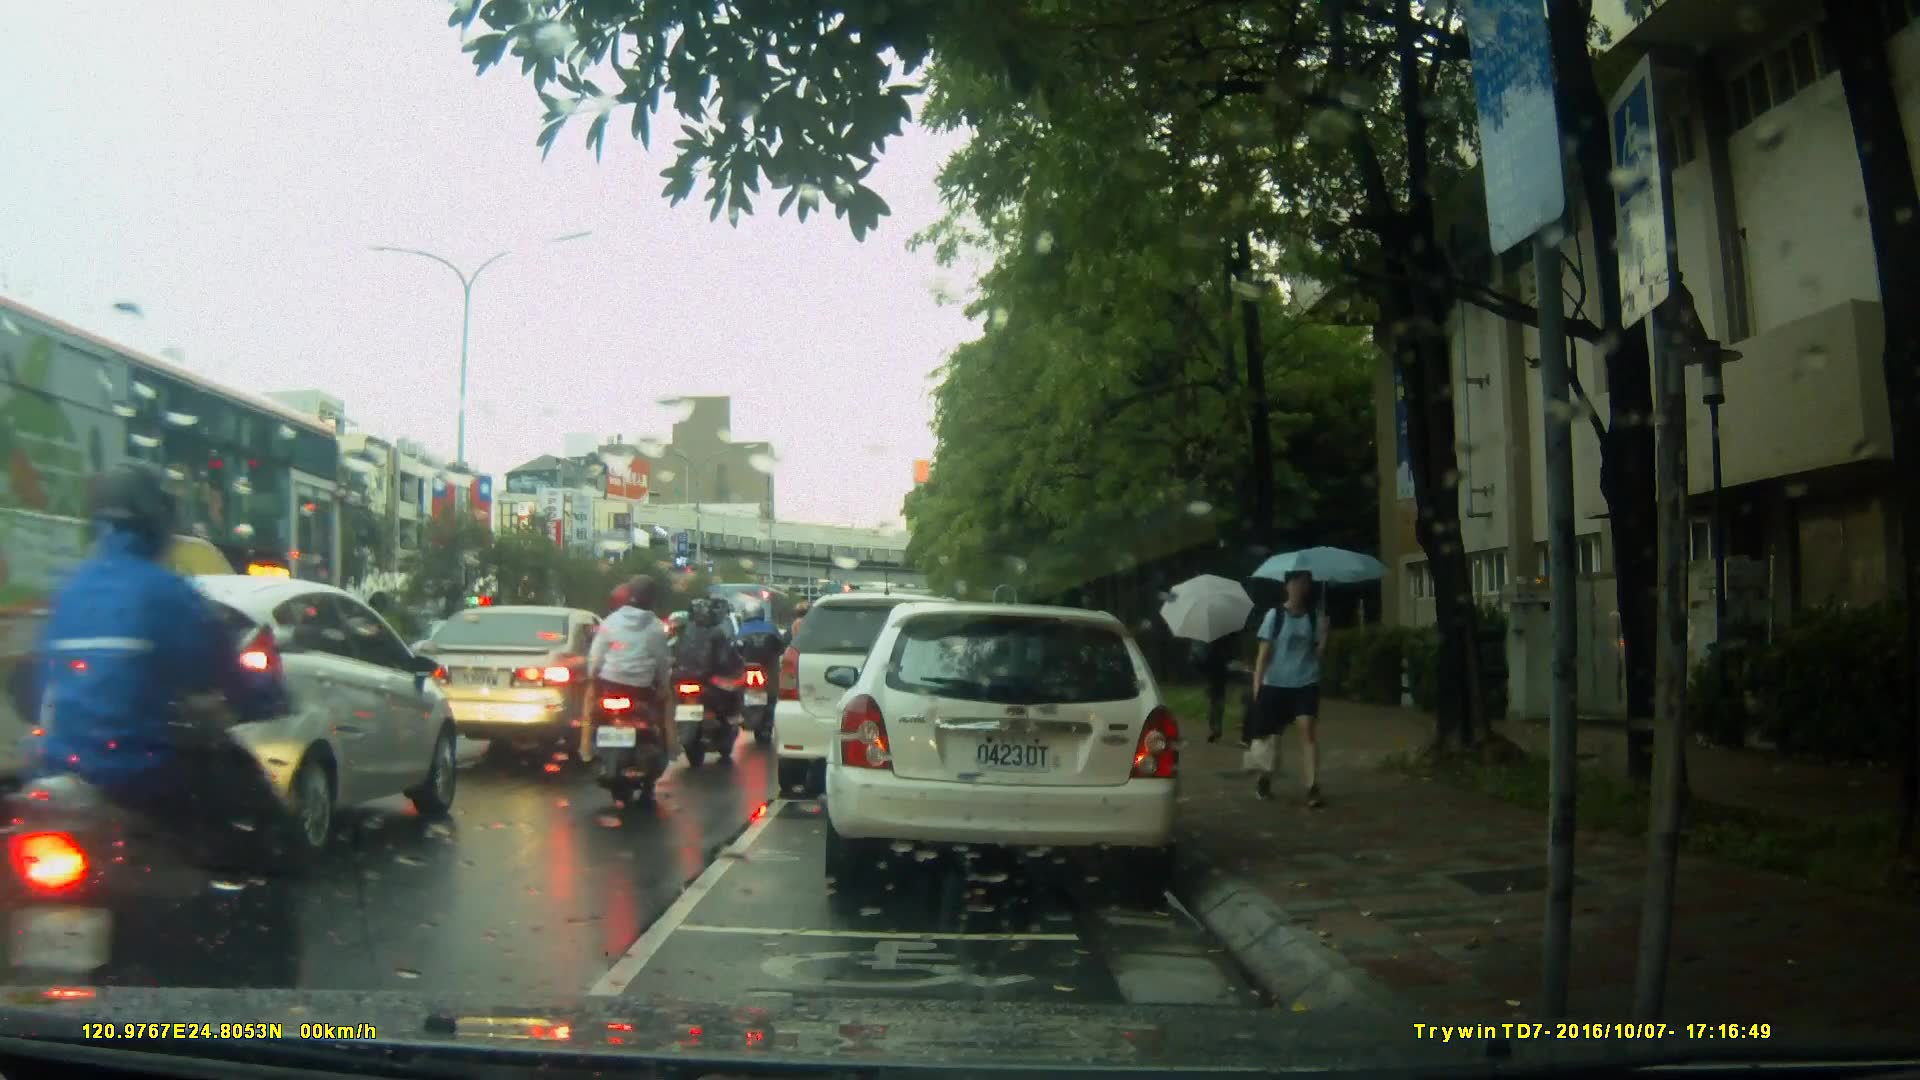pedestrian: (1235, 554, 1335, 816), (1199, 599, 1248, 739)
rider: (9, 469, 288, 1031), (582, 574, 681, 822), (673, 593, 733, 774), (729, 596, 787, 744), (788, 599, 824, 727)
vehicle: (1, 293, 352, 766), (30, 571, 461, 873), (835, 594, 1194, 898), (776, 590, 1026, 784), (386, 603, 644, 766), (603, 619, 728, 716), (706, 582, 807, 672)
